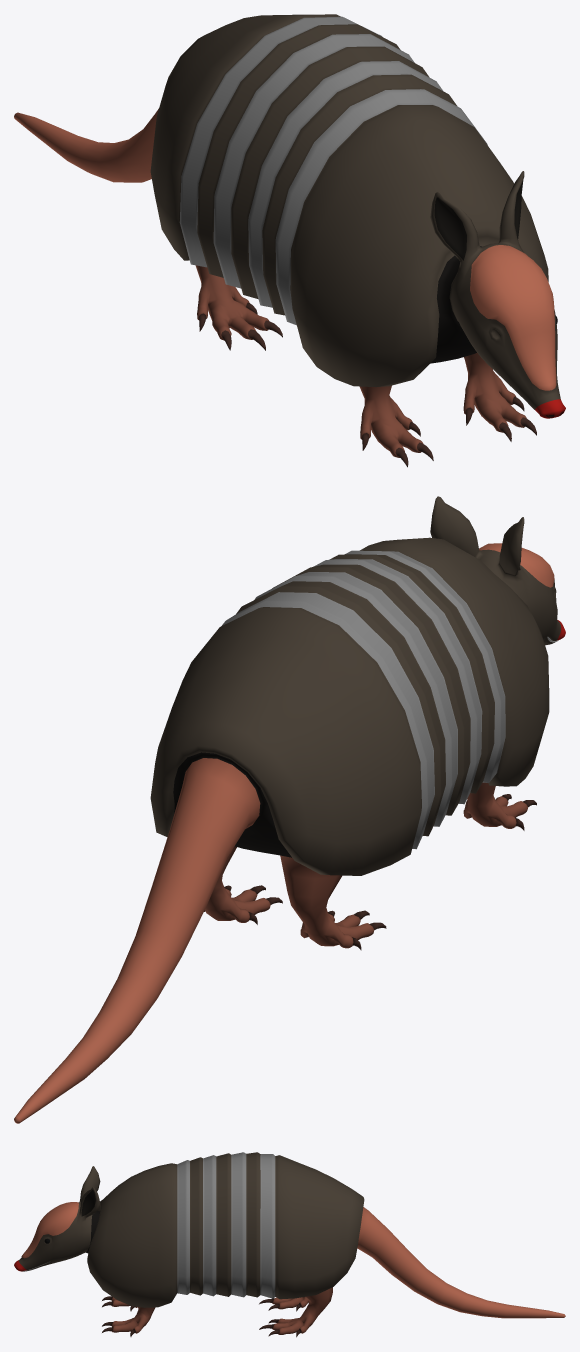
The model's file is armadillo.obj.
The picture shows the model from 3 angles, top to bottom: view 1: azimuth 30°, elevation 25°; view 2: azimuth 150°, elevation 25°; view 3: azimuth 270°, elevation 25°; orthographic projection. The views are drawn at different scales.
Parts seen in each view (by area): view 1: armadillo; view 2: armadillo; view 3: armadillo.
Boxes of the visible parts, x1,y1,x2,y2 form: armadillo: (14,14,565,467); armadillo: (14,496,565,1123); armadillo: (14,1152,565,1337).
Bounding box in the file's own units: 0.2625 × 0.3197 × 0.9958.
